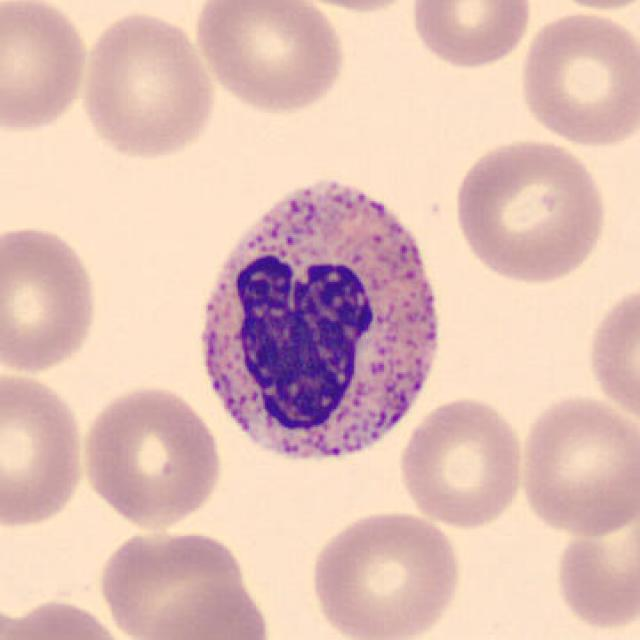Neutrophil: (183, 164, 455, 481)
RBC: (448, 134, 612, 286), (76, 381, 226, 531), (76, 7, 220, 162), (306, 506, 466, 640), (94, 527, 267, 640), (188, 0, 350, 116), (395, 391, 528, 531), (514, 390, 636, 540), (514, 7, 638, 150), (0, 220, 103, 378), (0, 365, 91, 531), (0, 0, 92, 136), (550, 495, 638, 635), (407, 0, 535, 72), (582, 275, 638, 432), (142, 576, 273, 640), (2, 594, 137, 640), (281, 0, 428, 14), (533, 0, 640, 14)
